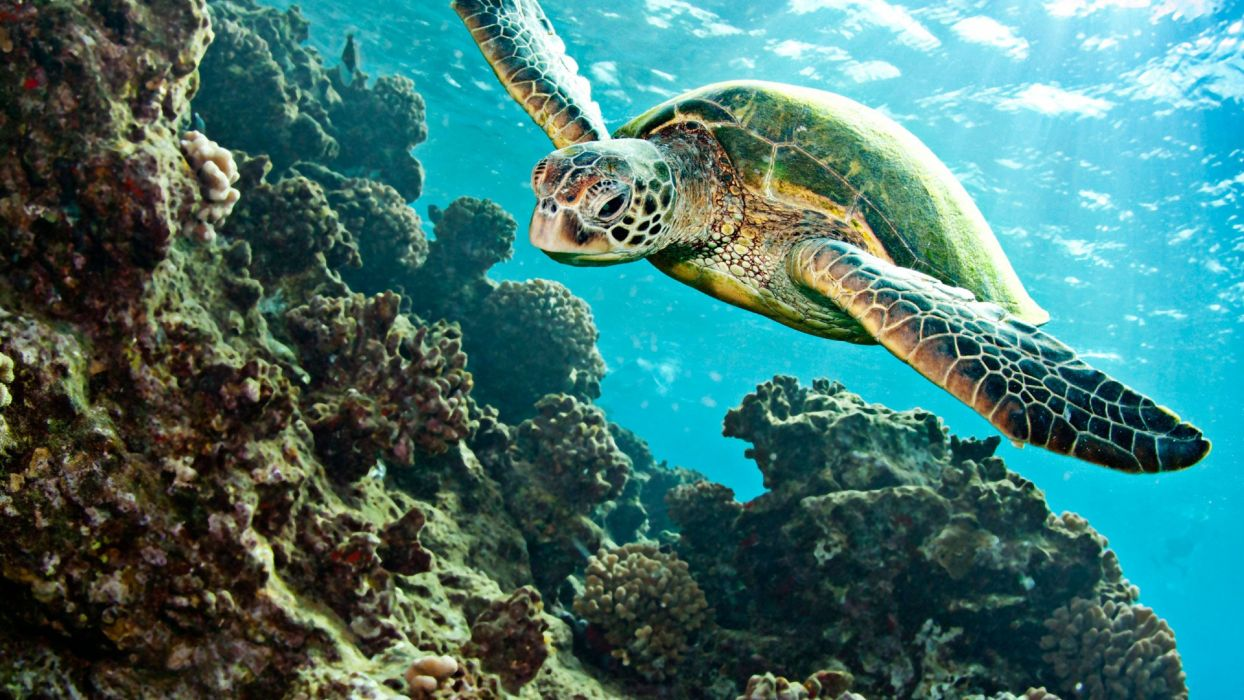turtle: (452, 3, 1209, 469)
